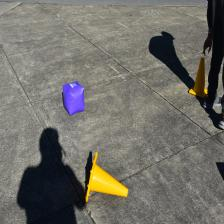cone: (84, 151, 128, 203), (188, 56, 208, 98)
cube: (63, 80, 85, 116)
